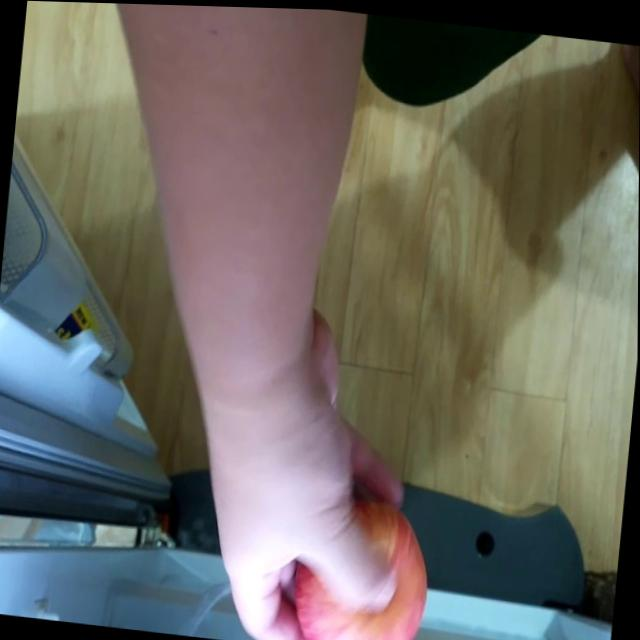apple: (282, 484, 434, 640)
